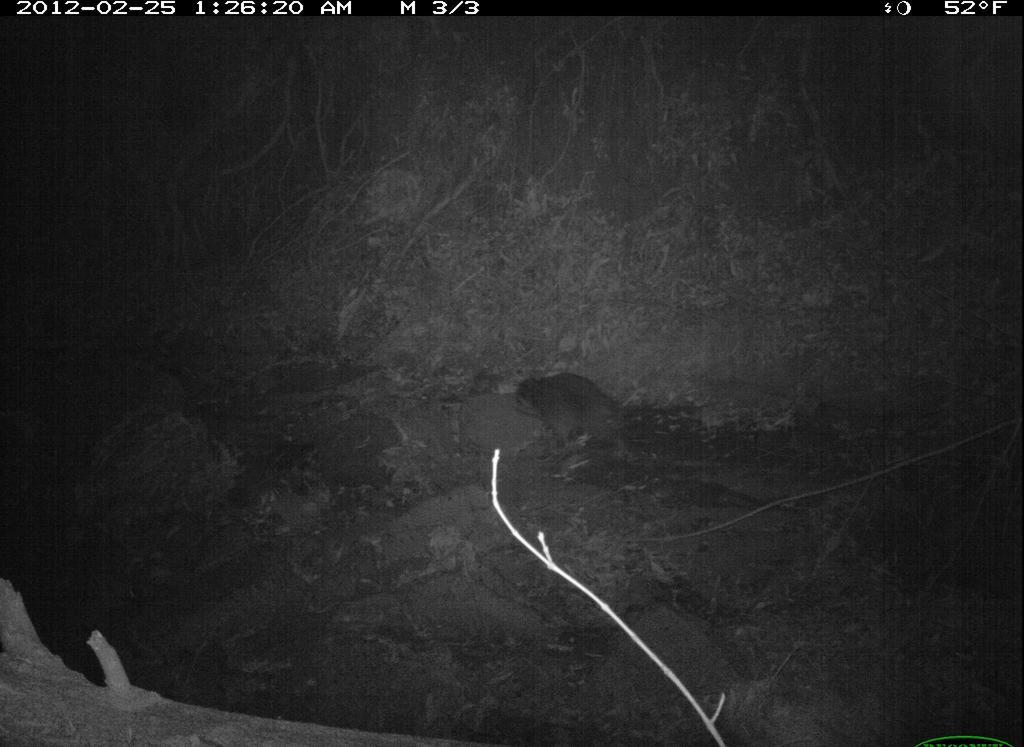raccoon: (506, 364, 649, 473)
